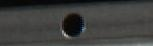holes: (60, 12, 85, 38)
